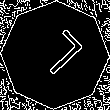L_SW: (26, 26, 84, 84)
